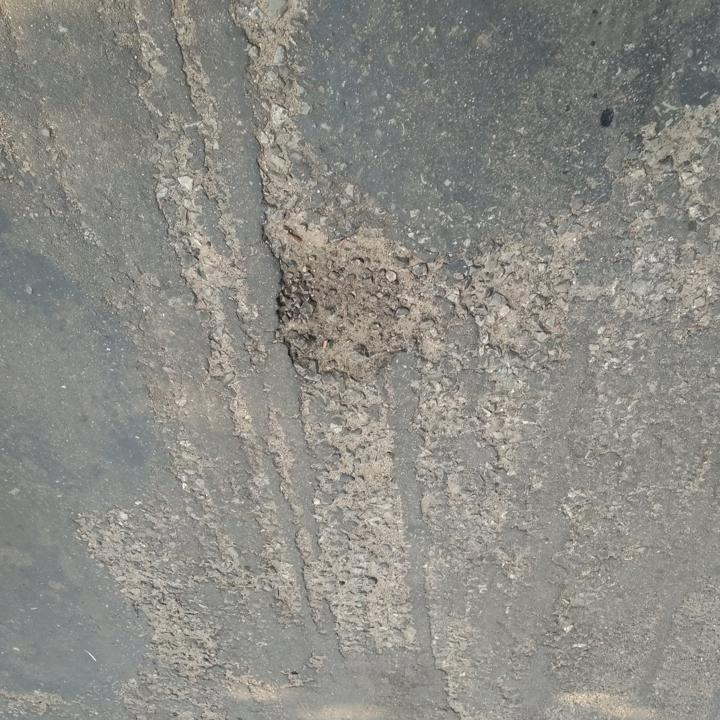pothole: (257, 214, 417, 386)
